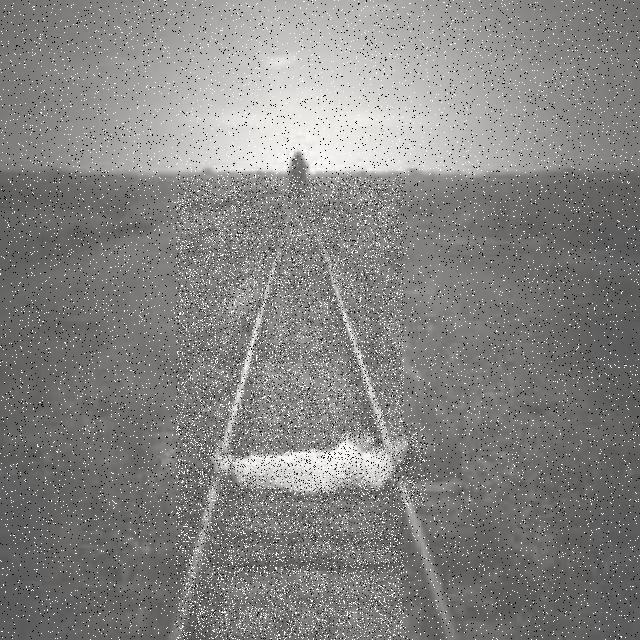rail: (177, 178, 406, 640)
